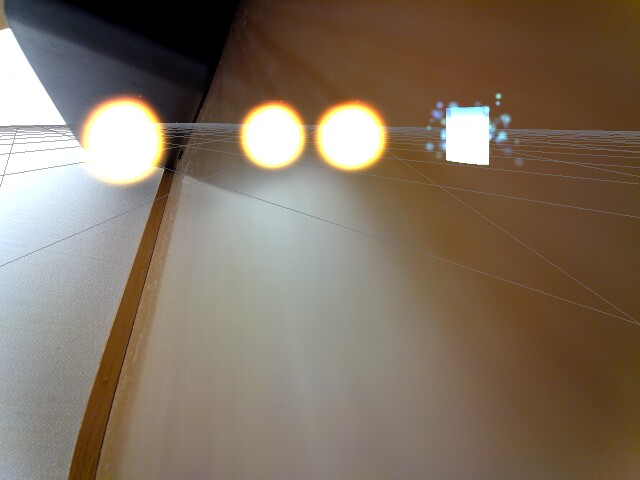firebig: (68, 90, 171, 195)
